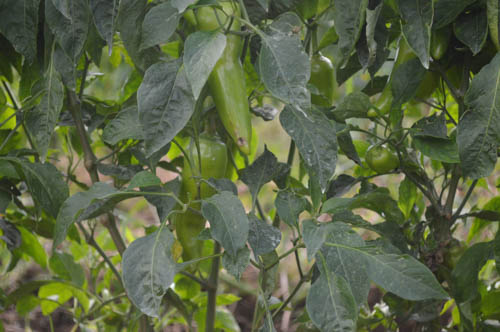ChiliPepper: (197, 7, 251, 152), (370, 41, 415, 129), (182, 139, 222, 208), (169, 203, 203, 261), (310, 56, 335, 107), (368, 146, 397, 170)
